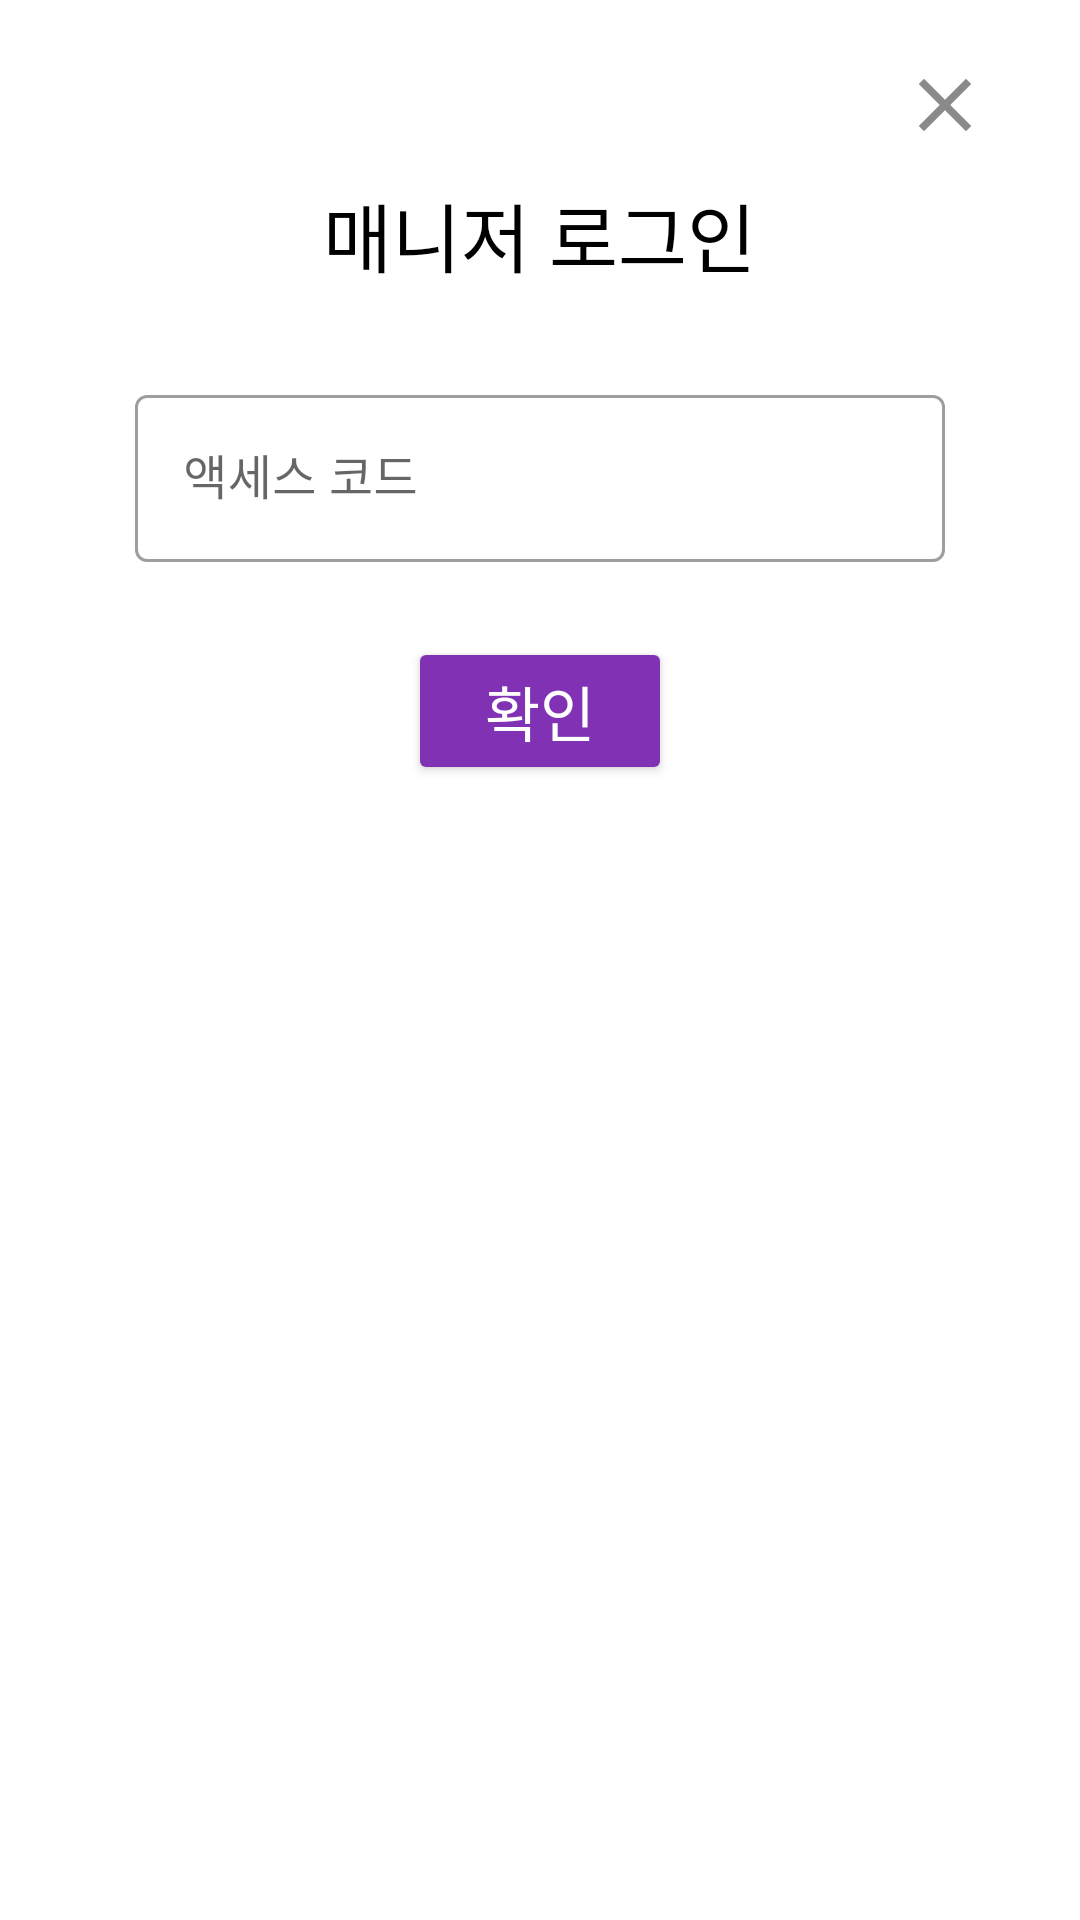

Screen size 1080 x 1920. Icon name, then its center in pixels as point (x, y):
close: point (945, 105)
